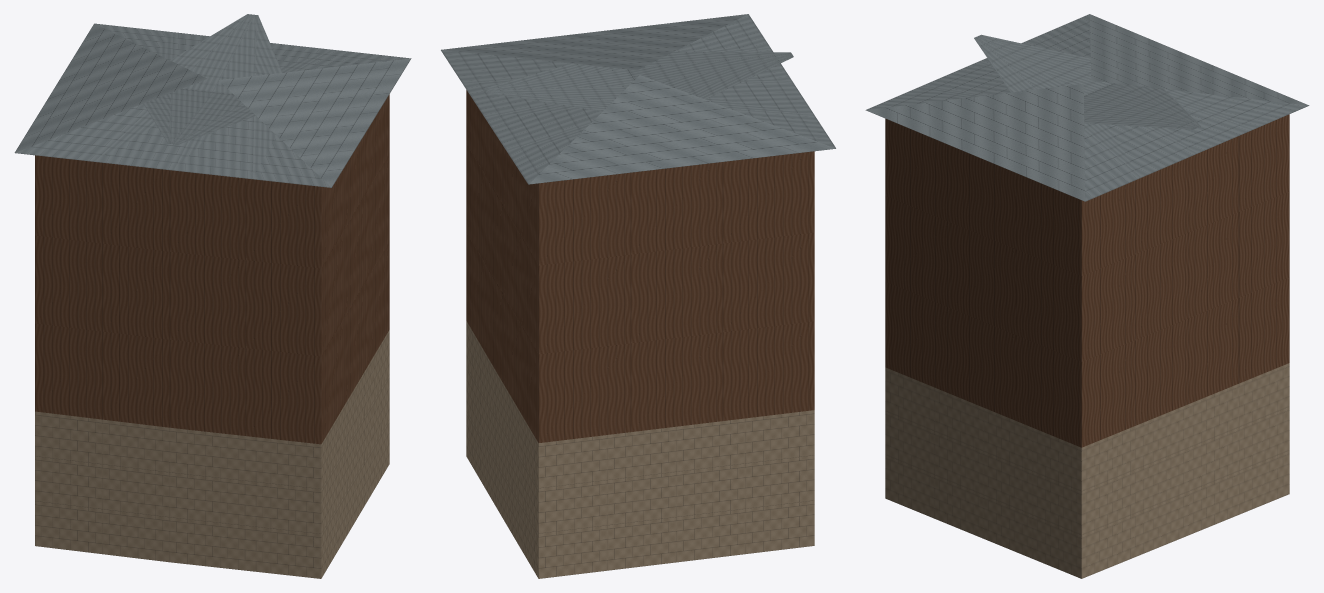
File: bld_c43_-40_421.gltf
The picture shows the model from 3 angles, left to right: view 1: azimuth 30°, elevation 25°; view 2: azimuth 150°, elevation 25°; view 3: azimuth 270°, elevation 25°; orthographic projection. The views are drawn at different scales.
Parts seen in each view (by area): view 1: bld_c43_-40_421; view 2: bld_c43_-40_421; view 3: bld_c43_-40_421.
Part boxes in pixels (box(x1,y1,x2,y2)): bld_c43_-40_421: box(14, 14, 411, 578); bld_c43_-40_421: box(441, 14, 835, 578); bld_c43_-40_421: box(865, 14, 1309, 578).
Bounding box in the file's own units: 15.66 × 16.1 × 15.65.
Materials: 3 (3 with a texture image).
